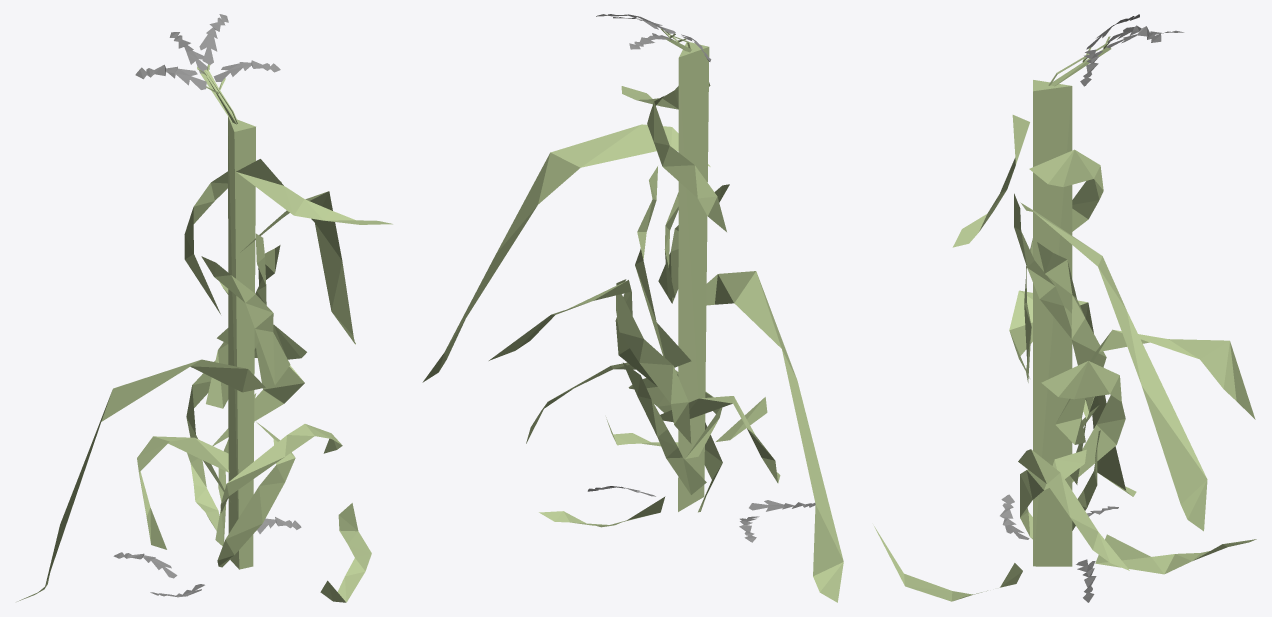
File: Corn_7.fbx
3 renders of one model, left to right at view 1: azimuth 30°, elevation 25°; view 2: azimuth 150°, elevation 25°; view 3: azimuth 270°, elevation 25°, orthographic. The views are drawn at different scales.
Parts seen in each view (by area): view 1: Corn_7; view 2: Corn_7; view 3: Corn_7.
Boxes of the visible parts, bbox=[...] form: Corn_7: bbox=[17, 14, 392, 602]; Corn_7: bbox=[422, 14, 843, 602]; Corn_7: bbox=[874, 14, 1256, 602].
Bounding box in the file's own units: 171 × 231 × 140.
